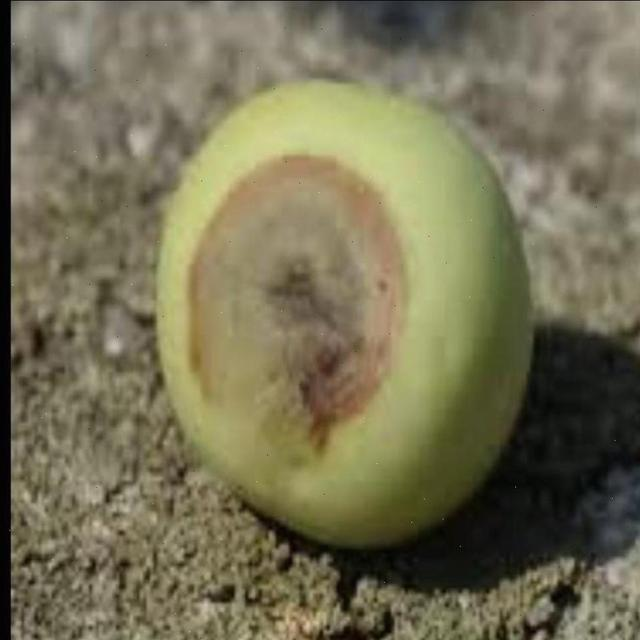Blossom End Rot Fruit: (123, 100, 272, 308)
